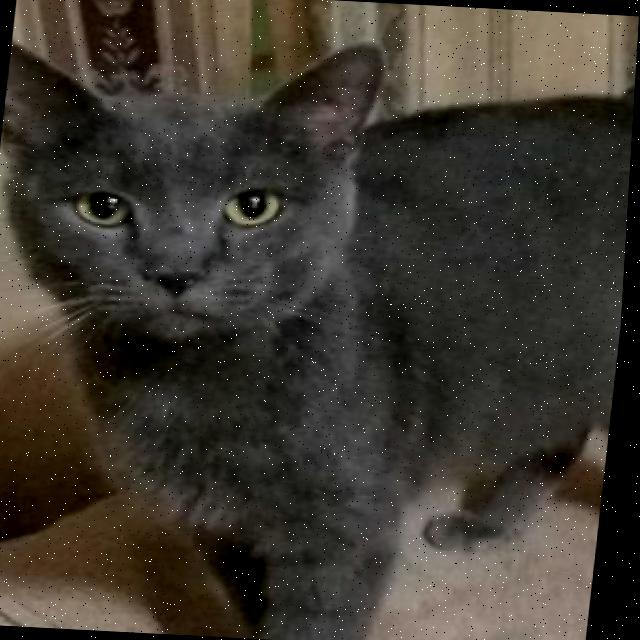Russian Blue: (0, 20, 639, 640)
